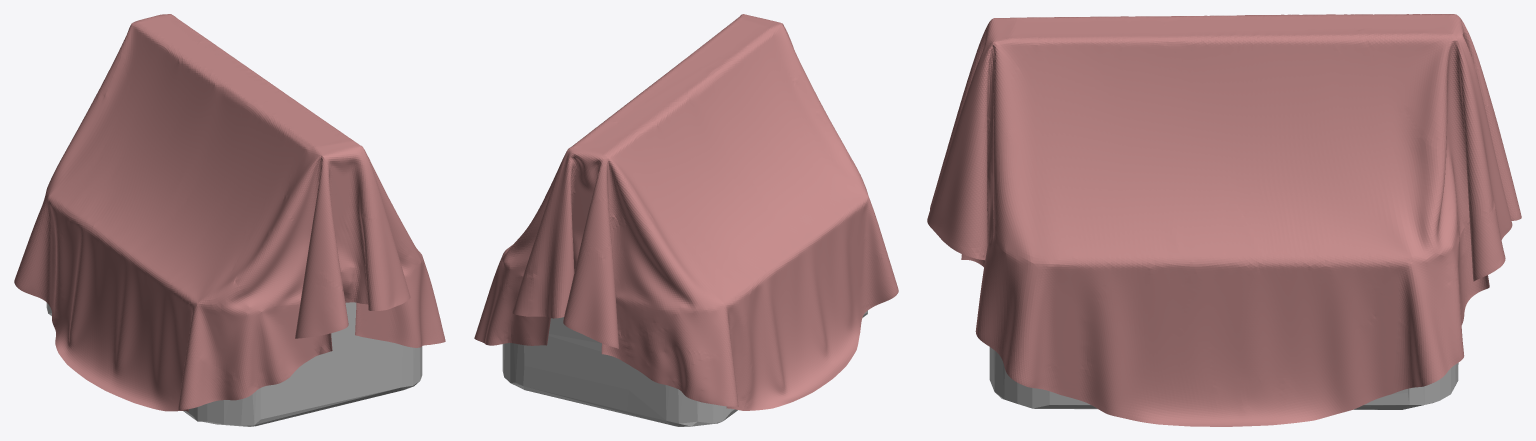
The model's file is level_4.glb.
The picture shows the model from 3 angles, left to right: view 1: azimuth 30°, elevation 25°; view 2: azimuth 150°, elevation 25°; view 3: azimuth 270°, elevation 25°; orthographic projection. The views are drawn at different scales.
Parts seen in each view (by area): view 1: world, object.obj; view 2: world, object.obj; view 3: world, object.obj.
Boxes of the visible parts, x1=… form: world: x1=14, y1=14, x2=445, y2=411; object.obj: x1=46, y1=302, x2=422, y2=426; world: x1=474, y1=14, x2=898, y2=410; object.obj: x1=502, y1=310, x2=867, y2=426; world: x1=927, y1=14, x2=1521, y2=426; object.obj: x1=989, y1=347, x2=1458, y2=409.
Bounding box in the file's own units: 0.2857 × 0.2482 × 0.4118.
